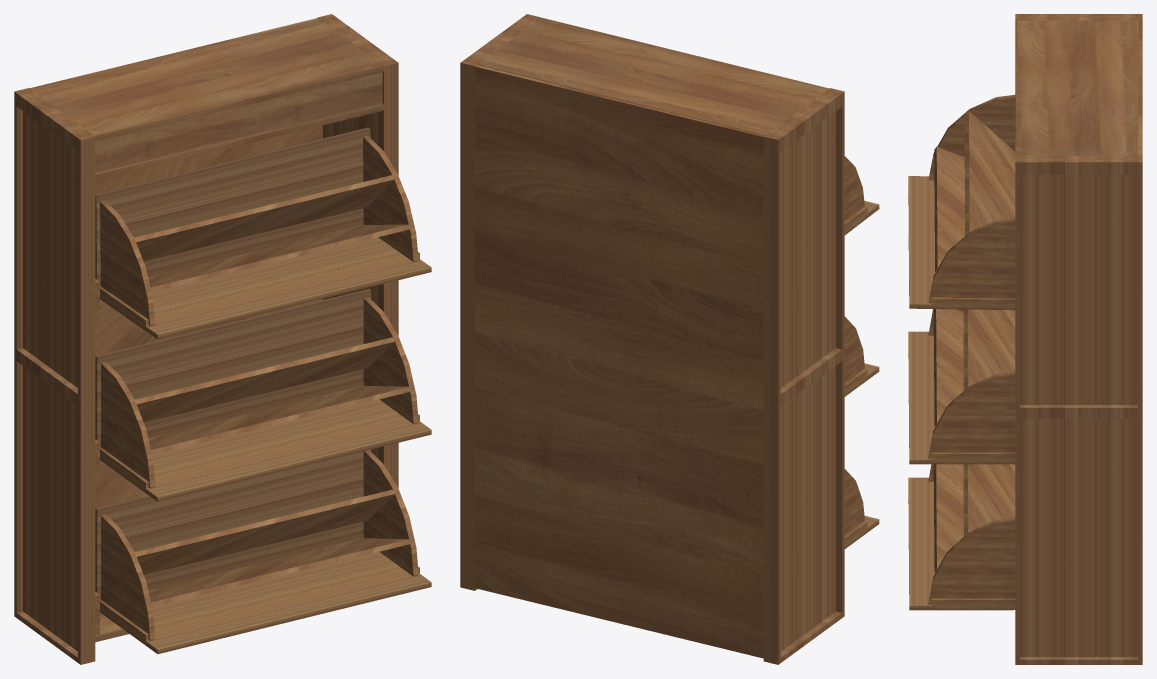
The model's file is shoe8.glb.
The picture shows the model from 3 angles, left to right: view 1: azimuth 30°, elevation 25°; view 2: azimuth 150°, elevation 25°; view 3: azimuth 270°, elevation 25°; orthographic projection. The views are drawn at different scales.
Parts seen in each view (by area): view 1: polySurface18; view 2: polySurface18; view 3: polySurface18.
Boxes of the visible parts, left/top/right/bottom form: polySurface18: left=14, top=14, right=431, bottom=664; polySurface18: left=460, top=14, right=879, bottom=664; polySurface18: left=908, top=14, right=1142, bottom=664.
Bounding box in the file's own units: 8.79 × 13.87 × 5.86.
1 material, 1 textured.
